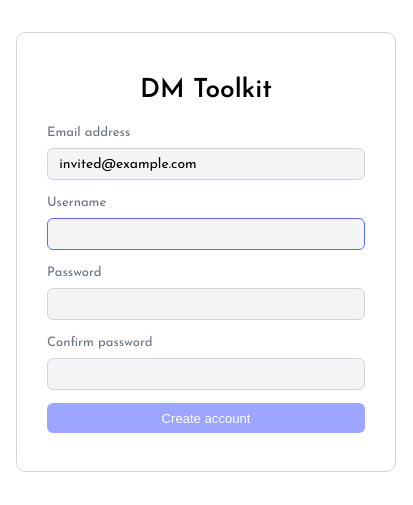
Test: submit button disabled and mismatch text shown when passwords differ
Type "newgm" into the field labelled "Username".
click(206, 234); type("newgm")  # box [47,218,365,250]
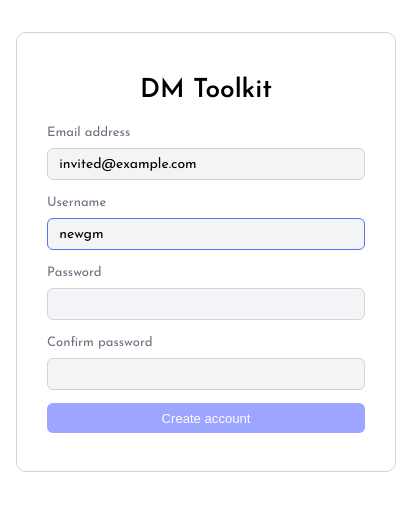
Type "password123" into the password field labelled "Password".
click(206, 304); type("password123")  # box [47,288,365,320]
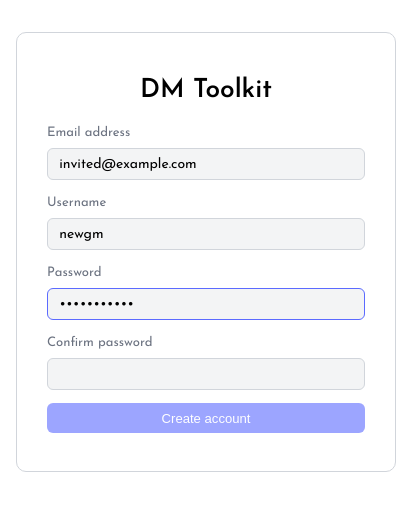
Type "different456" into the password field labelled "Confirm password".
click(206, 374); type("different456")  # box [47,358,365,390]
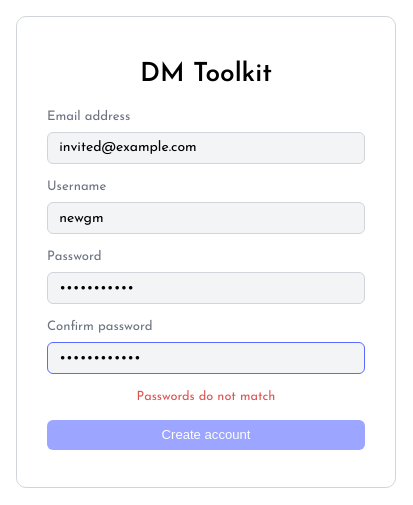
expect the button "Create account" is disabled: met, box [47,420,365,450]
expect the text "Passwords do not match" is shown: met, box [137,390,275,403]
